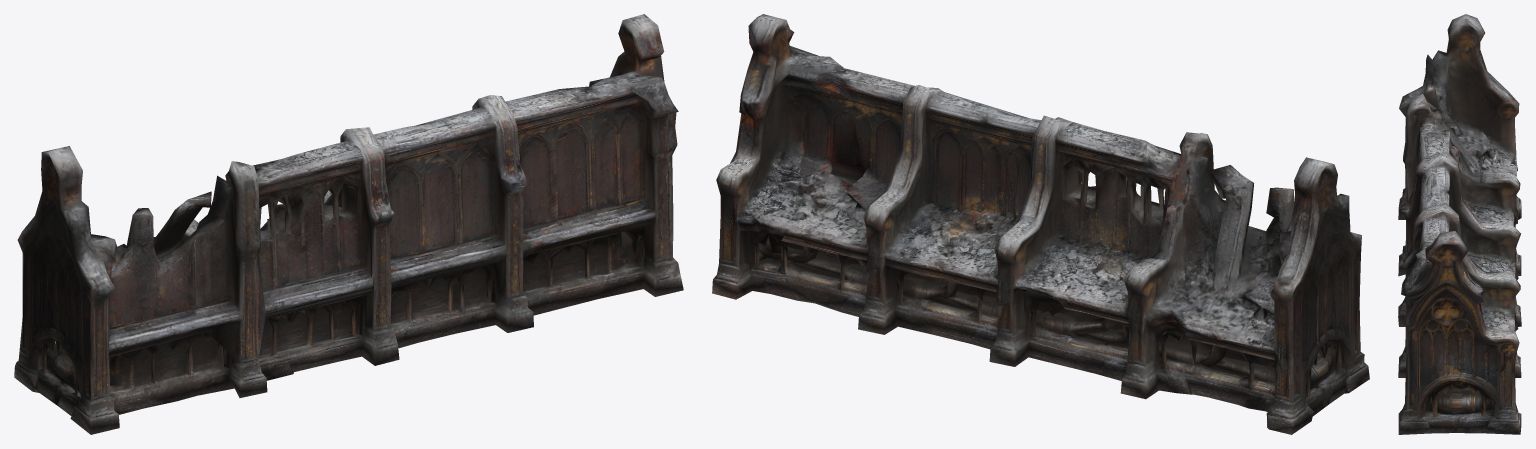
Rendered from env_ca_pew.glb.
3 views of the same model, side by side, from view 1: azimuth 30°, elevation 25°; view 2: azimuth 150°, elevation 25°; view 3: azimuth 270°, elevation 25° (orthographic). The views are drawn at different scales.
Visible parts, largest first — view 1: tripo_node_16f80847-5c48-4d67-8317-f88eca3aa34c; view 2: tripo_node_16f80847-5c48-4d67-8317-f88eca3aa34c; view 3: tripo_node_16f80847-5c48-4d67-8317-f88eca3aa34c.
Part boxes in pixels (bbox=[...]): tripo_node_16f80847-5c48-4d67-8317-f88eca3aa34c: bbox=[14, 14, 683, 434]; tripo_node_16f80847-5c48-4d67-8317-f88eca3aa34c: bbox=[712, 14, 1369, 434]; tripo_node_16f80847-5c48-4d67-8317-f88eca3aa34c: bbox=[1398, 14, 1521, 434].
Bounding box in the file's own units: 1 × 0.4061 × 0.2313.
1 material, 1 textured.
